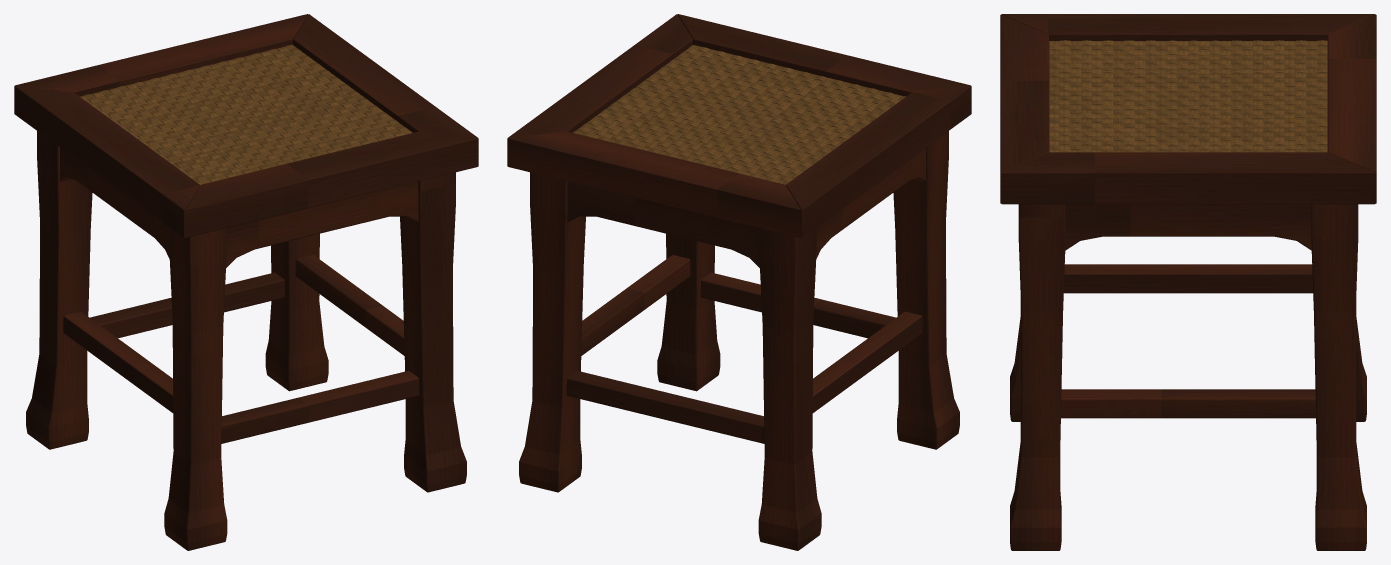
Rendered from gpt-xiaowuzi-v1.glb.
3 renders of one model, left to right at view 1: azimuth 30°, elevation 25°; view 2: azimuth 150°, elevation 25°; view 3: azimuth 270°, elevation 25°, orthographic. The views are drawn at different scales.
Parts seen in each view (by area): view 1: 14_小杌子_栗褐木架, 14_小杌子_交织藤面; view 2: 14_小杌子_栗褐木架, 14_小杌子_交织藤面; view 3: 14_小杌子_栗褐木架, 14_小杌子_交织藤面.
Part boxes in pixels (box(x1,y1,x2,y2)): 14_小杌子_栗褐木架: box(14, 14, 478, 550); 14_小杌子_交织藤面: box(80, 45, 412, 185); 14_小杌子_栗褐木架: box(507, 14, 971, 550); 14_小杌子_交织藤面: box(573, 45, 905, 185); 14_小杌子_栗褐木架: box(1000, 14, 1376, 550); 14_小杌子_交织藤面: box(1049, 40, 1327, 152).
Size of the model in its own units: 0.32 by 0.36 by 0.32.
2 materials, 2 textured.
